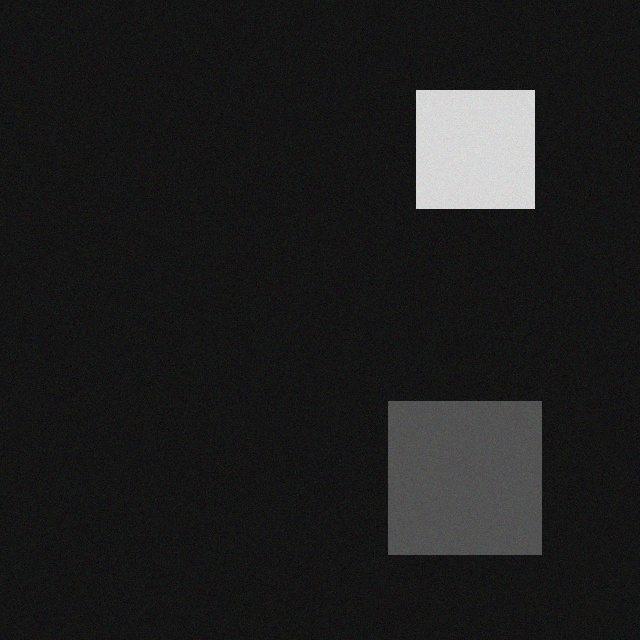square: (384, 413, 537, 566), (412, 102, 530, 220)
